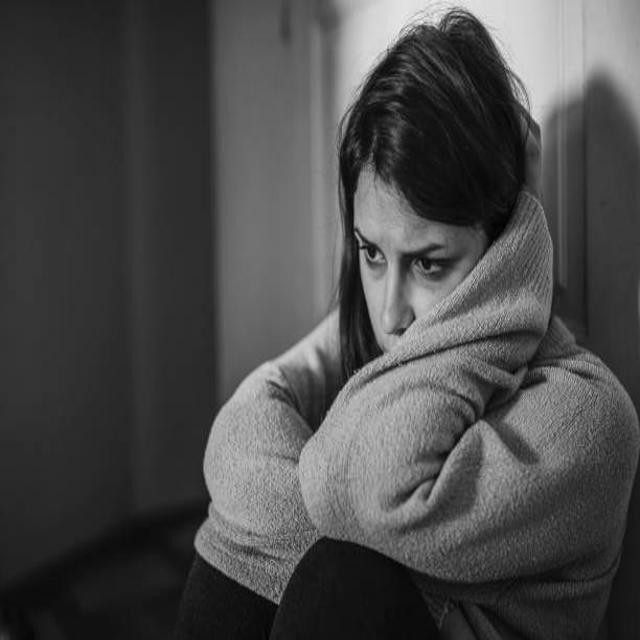Sadness: (348, 153, 492, 365)
